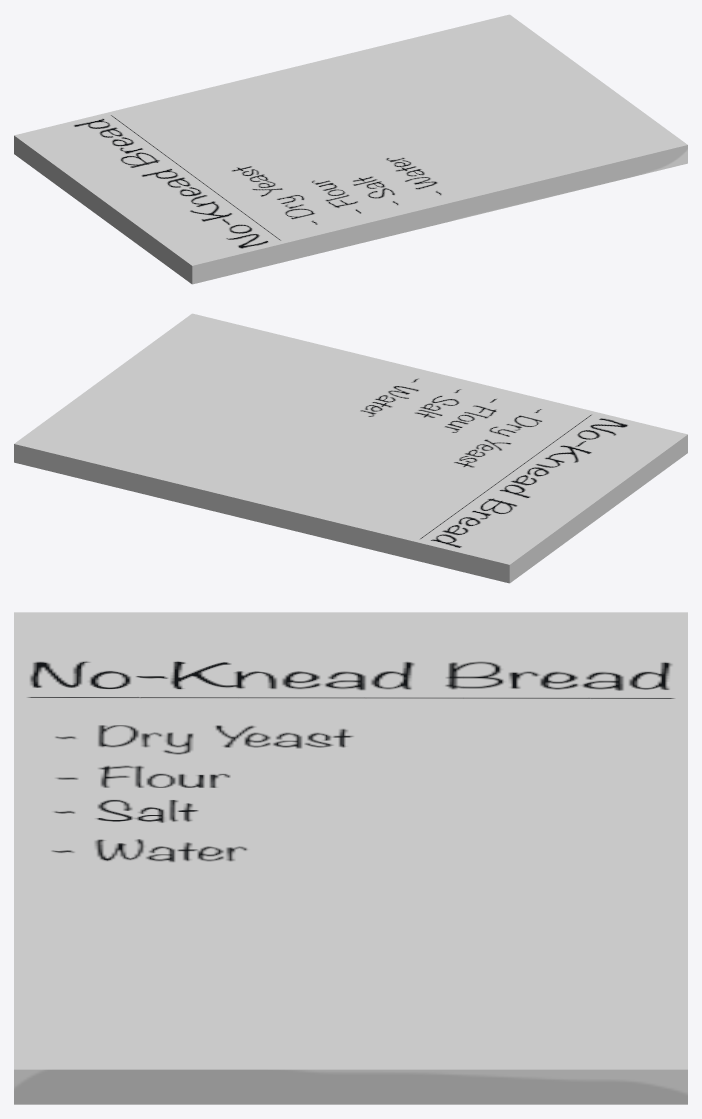
The model's file is recipePaperAsset.fbx.
3 renders of one model, top to bottom at view 1: azimuth 30°, elevation 25°; view 2: azimuth 150°, elevation 25°; view 3: azimuth 270°, elevation 25°, orthographic. The views are drawn at different scales.
Parts seen in each view (by area): view 1: recipeObj; view 2: recipeObj; view 3: recipeObj.
Boxes of the visible parts, left/top/right/bottom form: recipeObj: left=14, top=14, right=687, bottom=284; recipeObj: left=14, top=313, right=687, bottom=583; recipeObj: left=14, top=612, right=687, bottom=1104.
Size of the model in its own units: 16.7 by 0.6 by 10.4.
1 material, 1 textured.
